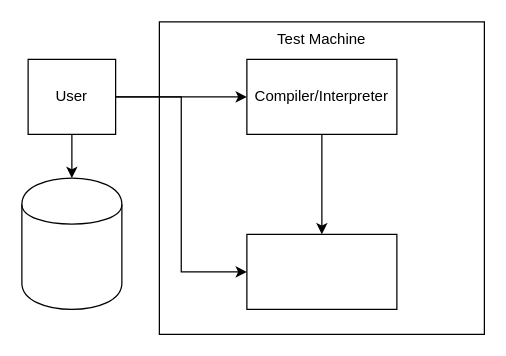
The diagram is 506 pixels wide and 356 high, and some of its shapes have lost their labels. Each missing label, with the centre of its shape:
"Program" goes at [321,271].
"Results DB" goes at [71,243].
